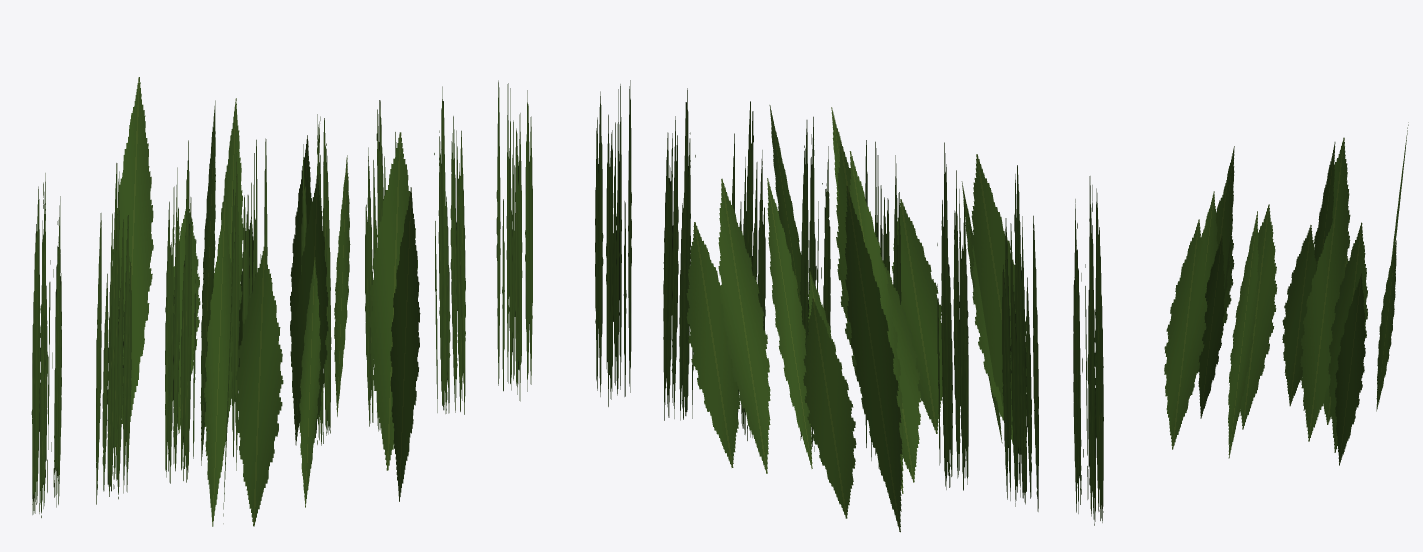
Rendered from grass.glb.
3 views of the same model, side by side, from view 1: azimuth 30°, elevation 25°; view 2: azimuth 150°, elevation 25°; view 3: azimuth 270°, elevation 25° (orthographic). The views are drawn at different scales.
Visible parts, largest first — view 1: foliage-lod0, eight-view-impostor; view 2: foliage-lod0, eight-view-impostor; view 3: foliage-lod0.
Boxes of the visible parts, bbox=[...] form: foliage-lod0: bbox=[112, 77, 420, 526]; eight-view-impostor: bbox=[31, 80, 532, 517]; foliage-lod0: bbox=[686, 105, 1026, 532]; eight-view-impostor: bbox=[595, 80, 1103, 525]; foliage-lod0: bbox=[1164, 122, 1408, 465].
Size of what is drawn, in the model's own units: 1 by 0.68 by 0.5135.
